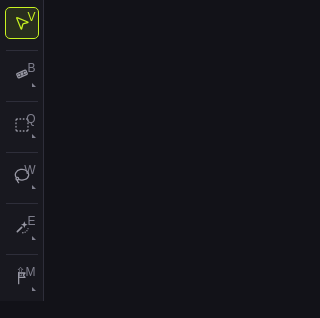
it: ToolRail — flyout (Photoshop convention: hold + right-click, ARIA, dismiss) › press-and-hold >=300ms opens the flyout; a quick click does not
Press the mouse on the button with test id "tool-rail-group-mask-shape" at [22, 125], box [6,110,38,140]
Press the mouse on the button with test id "tool-rail-group-mask-shape" at [22, 125], box [6,110,38,140]
Wait 300 ms
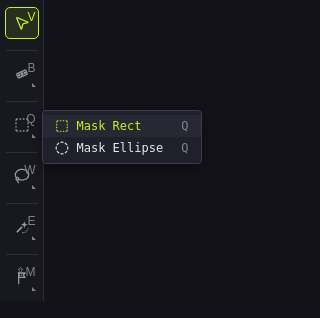
Now the menu with test id "tool-rail-flyout" is shown, box [42,110,202,164]
